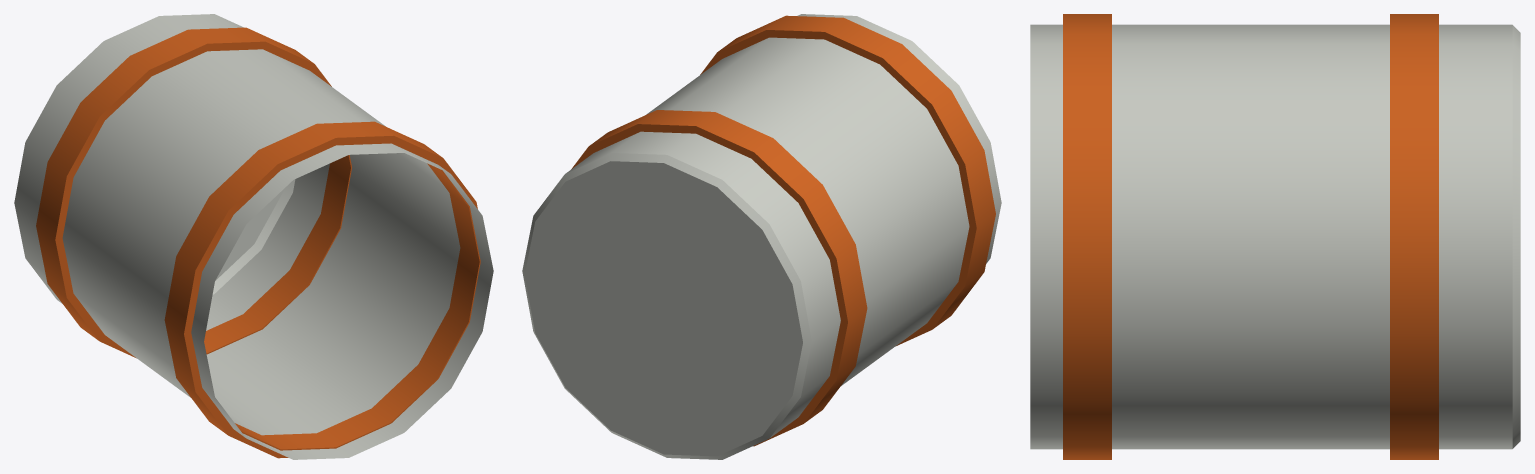
Rendered from u65m_housing.obj.
The picture shows the model from 3 angles, left to right: view 1: azimuth 30°, elevation 25°; view 2: azimuth 150°, elevation 25°; view 3: azimuth 270°, elevation 25°; orthographic projection. The views are drawn at different scales.
Visible parts, largest first — view 1: u65m_housing; view 2: u65m_housing; view 3: u65m_housing.
Part boxes in pixels (left/top/right/bottom): u65m_housing: left=14, top=14, right=493, bottom=459; u65m_housing: left=522, top=14, right=1001, bottom=459; u65m_housing: left=1030, top=14, right=1520, bottom=459.
Bounding box in the file's own units: 2.73 × 2.73 × 3.
